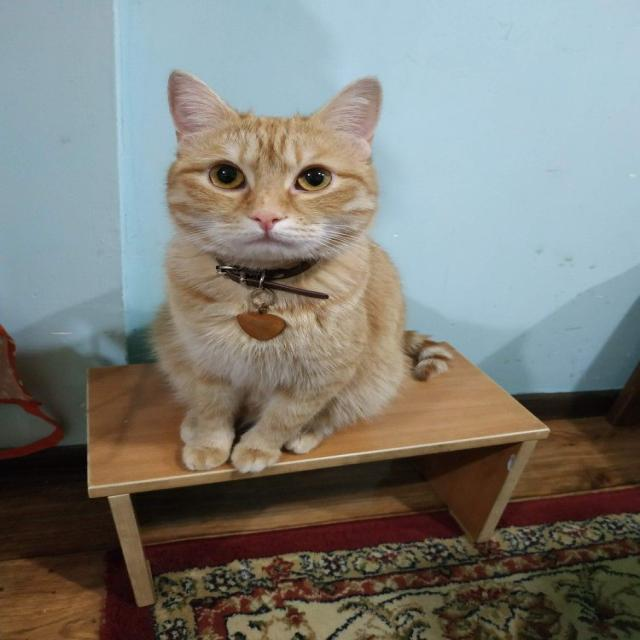sarman: (29, 51, 544, 572)
